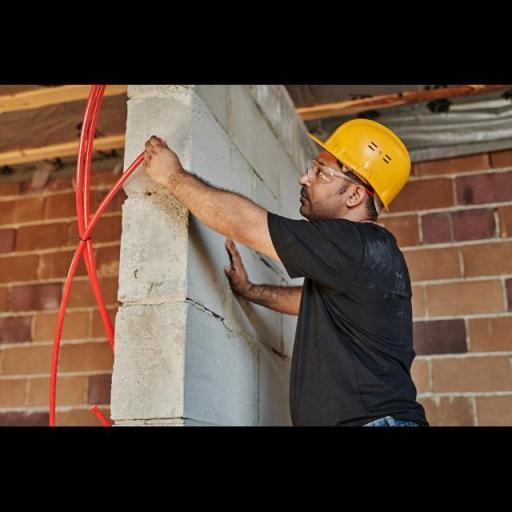Person: (106, 77, 464, 420)
helmet: (302, 113, 416, 219)
none: (266, 213, 425, 428), (134, 123, 188, 196), (212, 234, 265, 308)
